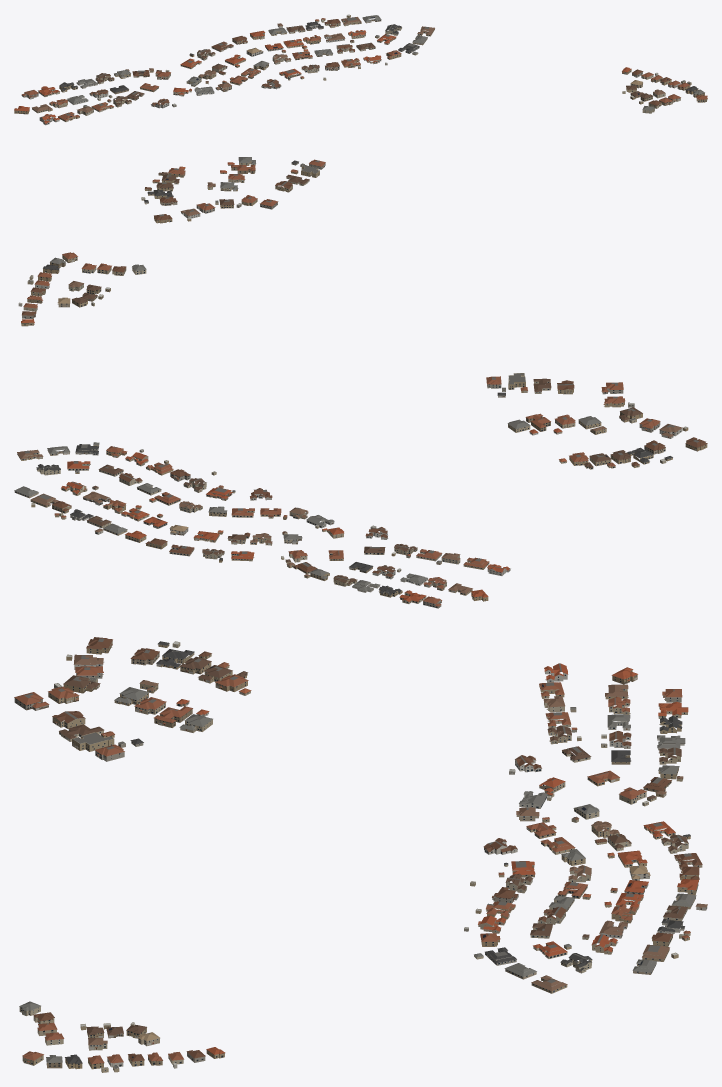
The picture shows the model from 3 angles, top to bottom: view 1: azimuth 30°, elevation 25°; view 2: azimuth 150°, elevation 25°; view 3: azimuth 270°, elevation 25°; orthographic projection. The views are drawn at different scales.
Visible parts, largest first — view 1: buildings_r6_c4_lod0; view 2: buildings_r6_c4_lod0; view 3: buildings_r6_c4_lod0.
Part boxes in pixels (x1,y1,x2,y2): buildings_r6_c4_lod0: (14, 14, 707, 223); buildings_r6_c4_lod0: (14, 252, 707, 608); buildings_r6_c4_lod0: (14, 637, 707, 1072).
Bounding box in the file's own units: 1109 × 63.08 × 739.
